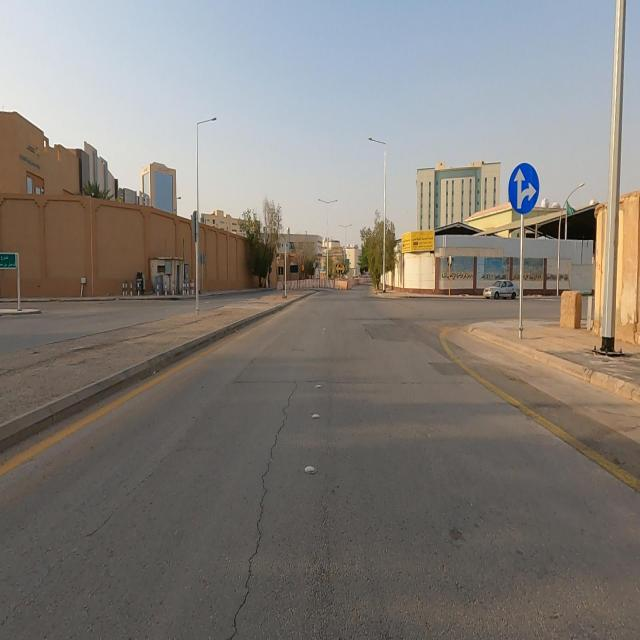debris: (422, 235, 492, 313), (496, 232, 562, 310), (462, 231, 531, 301)
